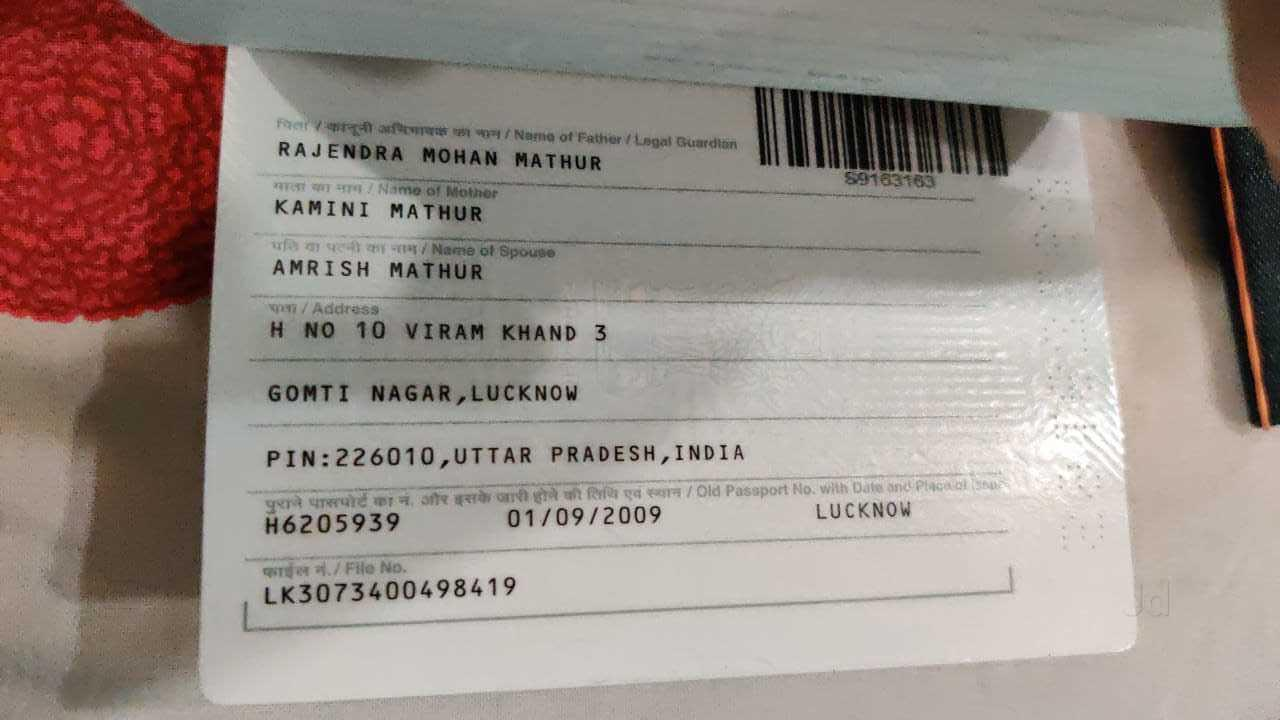File_no: (238, 572, 520, 620)
address: (254, 312, 774, 482)
father_name: (270, 130, 614, 182)
mother_name: (264, 187, 496, 233)
old_passport_details: (247, 496, 920, 543)
passport_no: (834, 160, 952, 198)
spouse_name: (256, 246, 499, 287)
